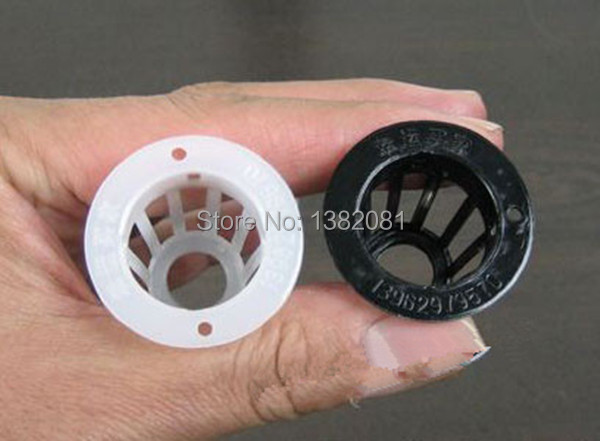basket: (81, 133, 301, 351), (321, 120, 533, 321)
